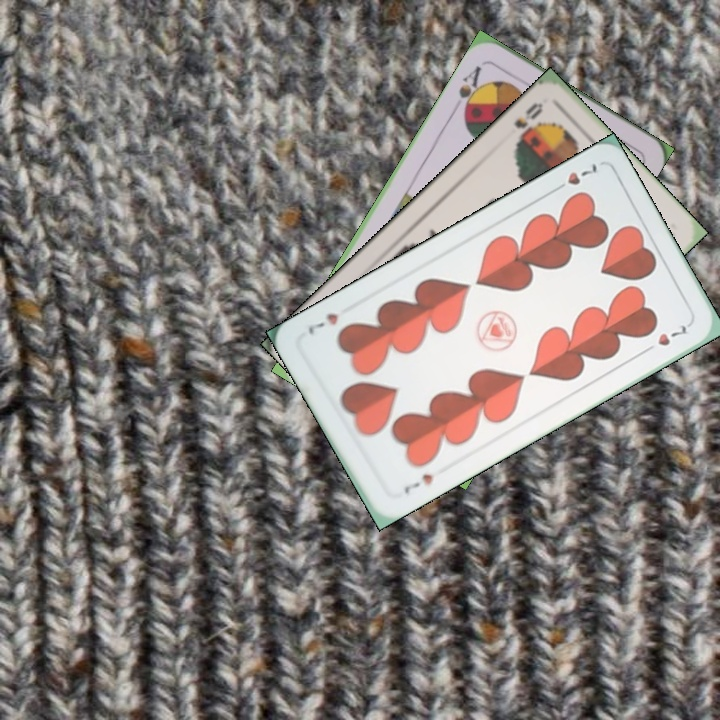H7: (548, 160, 601, 196), (400, 469, 435, 497)
SA: (454, 61, 487, 118)
SO: (510, 98, 546, 148)
